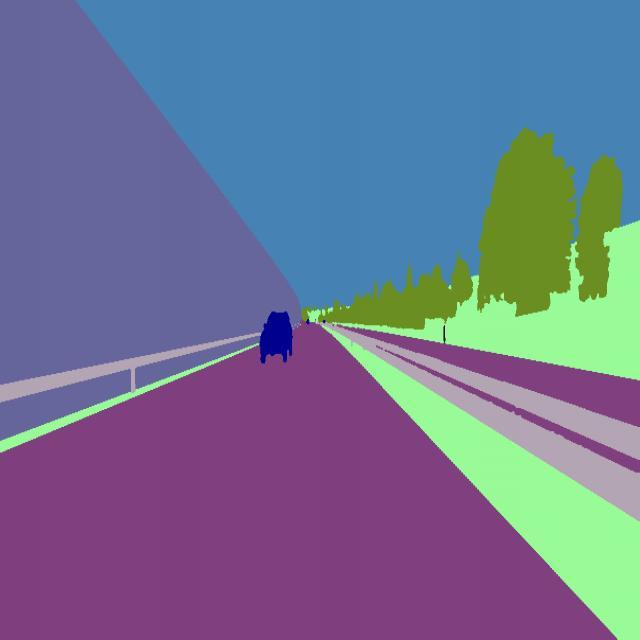safe: (256, 303, 296, 368)
